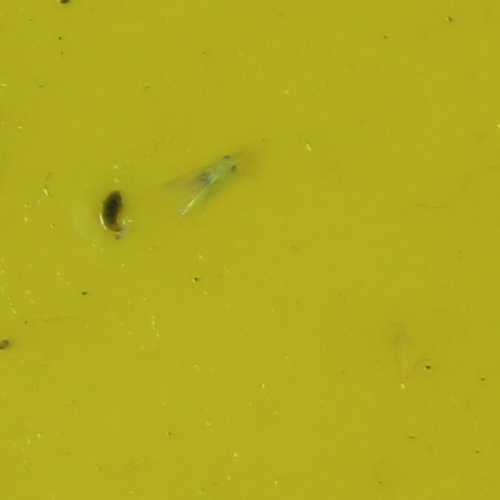psylla: (195, 150, 246, 190)
